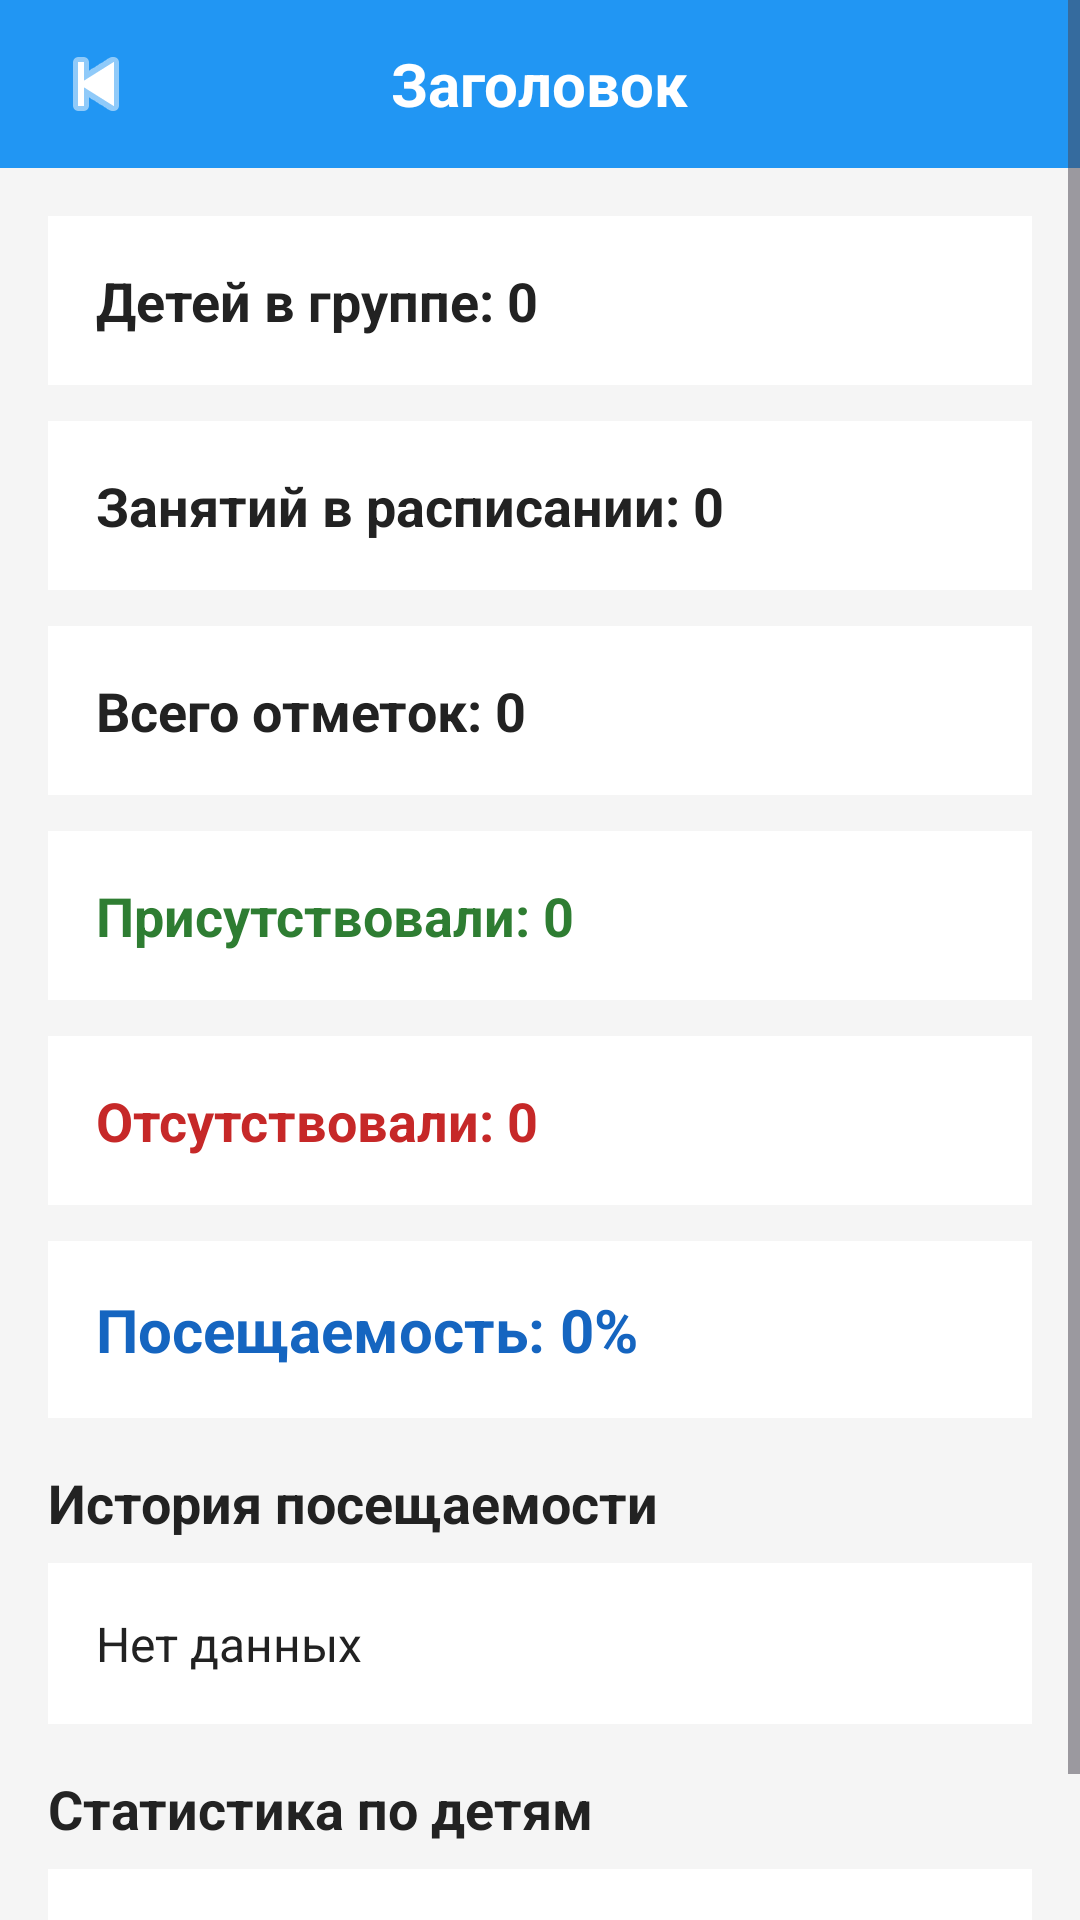

Point at icon controls on the screen. Image size 1080×1920, points as point (x, y).
Назад: point (96, 84)
